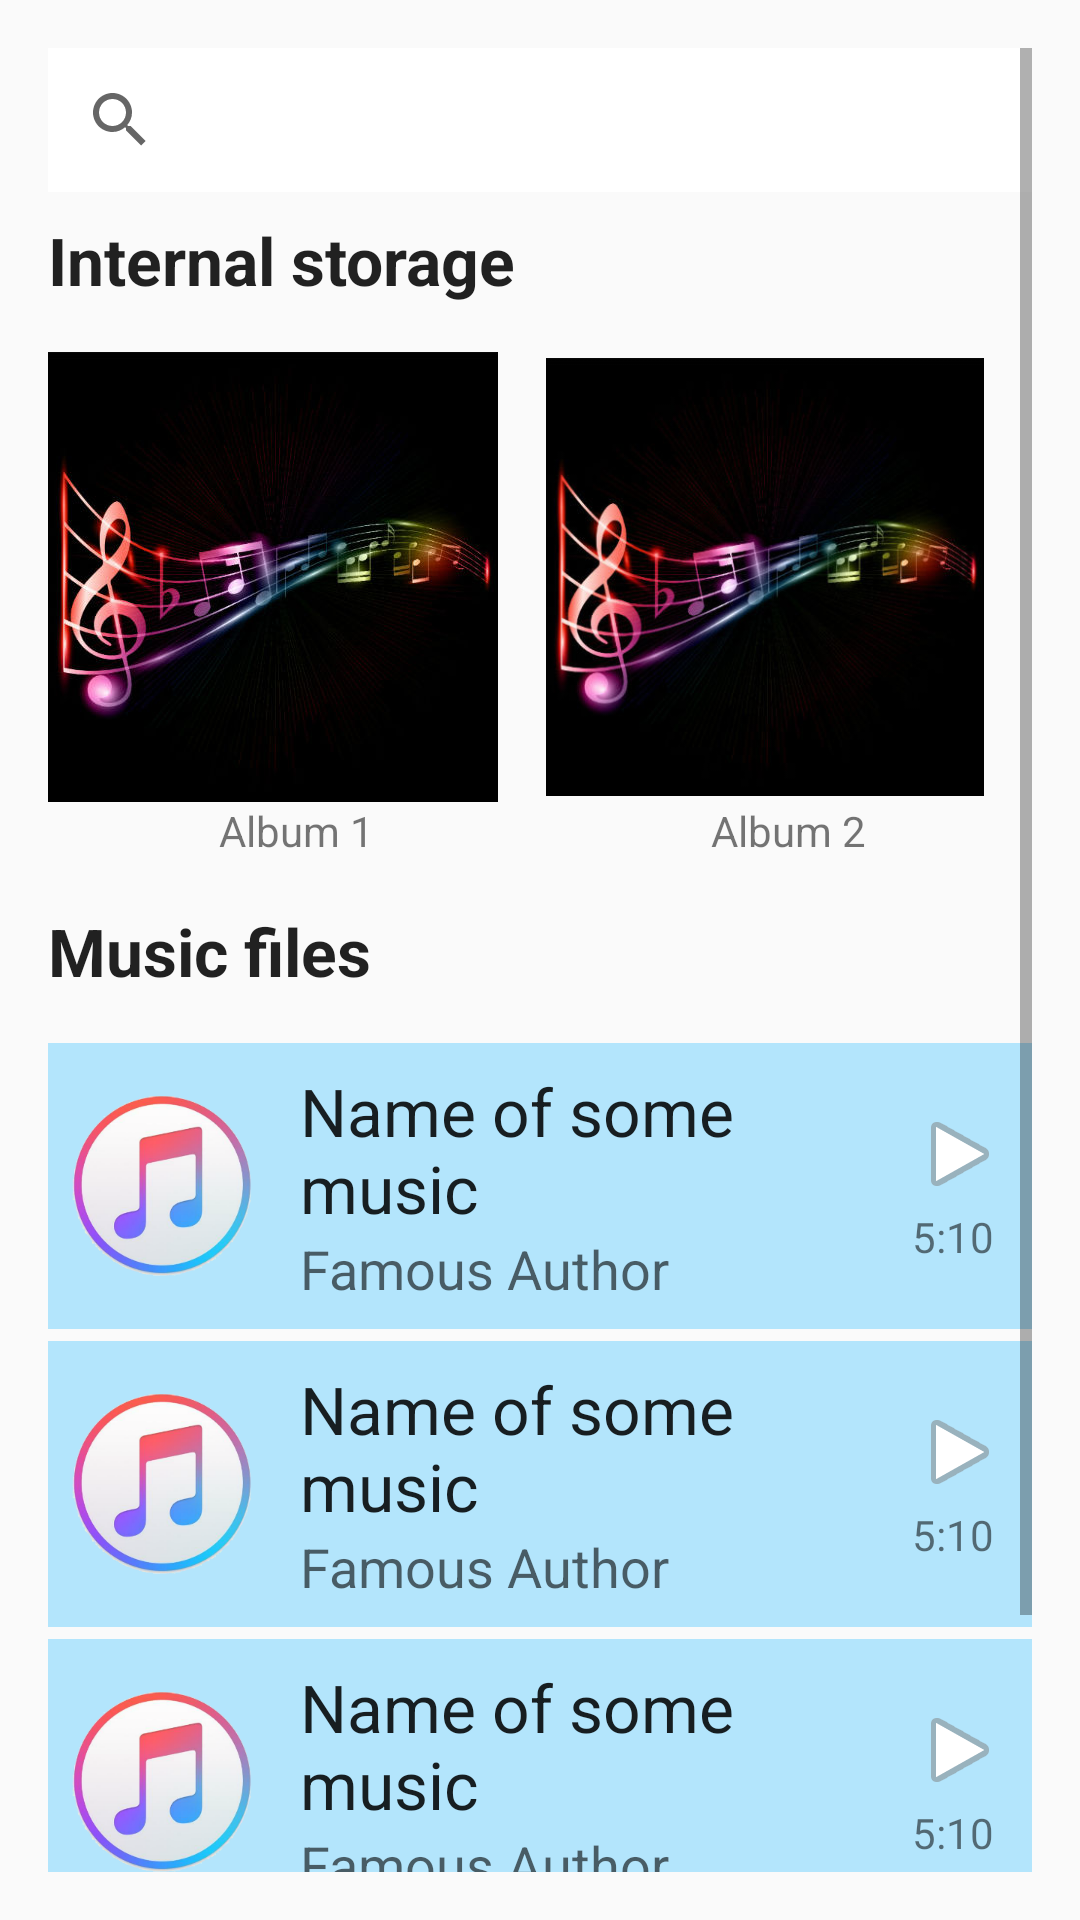

Icons on this 1080px×1920px Android screen, each with its box as (x1,y1,x2,y2):
play: (931,1122,989,1186), (931,1420,989,1484), (931,1718,989,1782)
